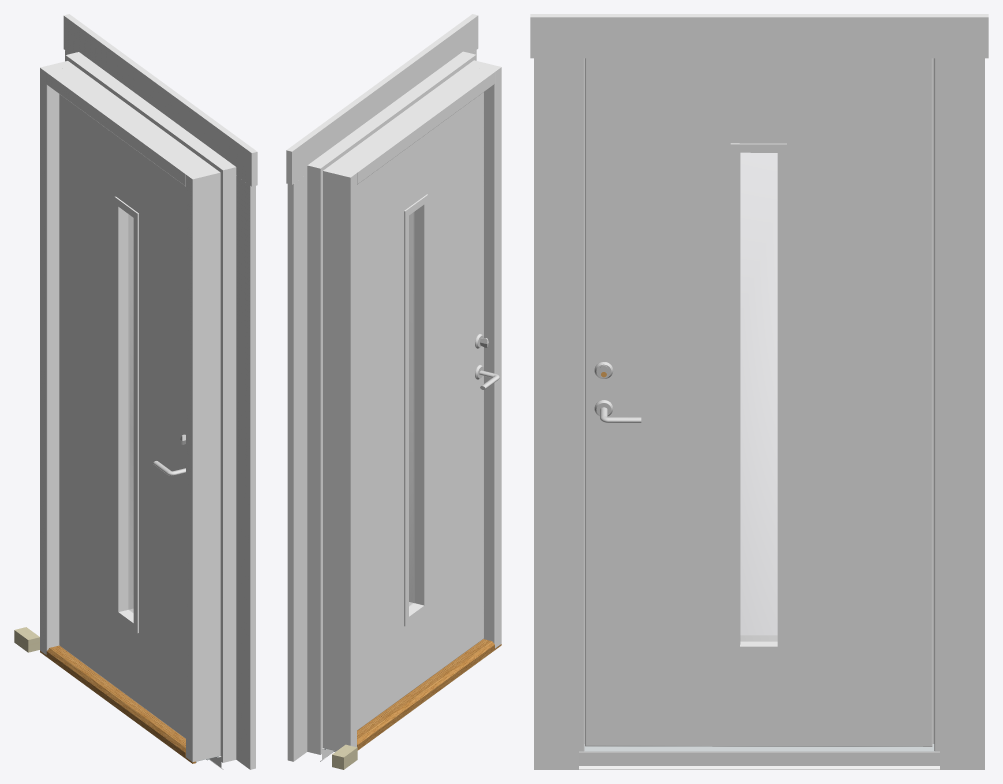
The picture shows the model from 3 angles, left to right: view 1: azimuth 30°, elevation 25°; view 2: azimuth 150°, elevation 25°; view 3: azimuth 270°, elevation 25°; orthographic projection. The views are drawn at different scales.
Parts seen in each view (by area): view 1: Dörrblad_WEB-1 - Part, Karmdelar_WEB-2 - Part, Fönsterfoder_WEB-2 - Part, Karmdelar_WEB-3 - Part, Påsalning yttersida_WEB-3 - Part, Fönsterfoder_WEB-1 - Part, Karmdelar_WEB-4 - Part, Ekdel - Tröskel_WEB-1 - Part, Påsalning yttersida_WEB-1 - Part, Glas_gamla_WEB-1 - Part_clonedChild, Glas_gamla_WEB-1 - Part, Boss-Extrude1 - Part; view 2: Dörrblad_WEB-1 - Part, Karmdelar_WEB-3 - Part, Fönsterfoder_WEB-3 - Part, Karmdelar_WEB-2 - Part, Påsalning yttersida_WEB-2 - Part, Fönsterfoder_WEB-1 - Part, Karmdelar_WEB-4 - Part, Ekdel - Tröskel_WEB-1 - Part, Påsalning yttersida_WEB-1 - Part, Glas_gamla_WEB-1 - Part_clonedChild, Glas_gamla_WEB-1 - Part, Boss-Extrude1 - Part; view 3: Dörrblad_WEB-1 - Part, Fönsterfoder_WEB-2 - Part, Fönsterfoder_WEB-3 - Part, Fönsterfoder_WEB-1 - Part, Glas_gamla_WEB-1 - Part_clonedChild, Glas_gamla_WEB-1 - Part, Tröskelbleck_WEB-1 - Part, Karmdelar_WEB-3 - Part, Karmdelar_WEB-2 - Part, Aluminiumdel - Tröskel_WEB-1 - Part.
Part boxes in pixels (box(x1,y1,x2,y2)): Dörrblad_WEB-1 - Part: box(59, 94, 185, 738); Karmdelar_WEB-2 - Part: box(186, 169, 220, 762); Fönsterfoder_WEB-2 - Part: box(236, 175, 255, 769); Karmdelar_WEB-3 - Part: box(40, 61, 71, 654); Påsalning yttersida_WEB-3 - Part: box(218, 163, 236, 762); Fönsterfoder_WEB-1 - Part: box(63, 14, 257, 186); Karmdelar_WEB-4 - Part: box(46, 64, 215, 186); Ekdel - Tröskel_WEB-1 - Part: box(40, 645, 195, 763); Påsalning yttersida_WEB-1 - Part: box(70, 55, 231, 170); Glas_gamla_WEB-1 - Part_clonedChild: box(129, 215, 132, 612); Glas_gamla_WEB-1 - Part: box(130, 216, 132, 610); Boss-Extrude1 - Part: box(14, 627, 39, 652); Dörrblad_WEB-1 - Part: box(357, 92, 483, 730); Karmdelar_WEB-3 - Part: box(323, 167, 356, 750); Fönsterfoder_WEB-3 - Part: box(287, 174, 307, 761); Karmdelar_WEB-2 - Part: box(470, 60, 501, 648); Påsalning yttersida_WEB-2 - Part: box(307, 162, 324, 754); Fönsterfoder_WEB-1 - Part: box(286, 14, 478, 184); Karmdelar_WEB-4 - Part: box(327, 63, 494, 184); Ekdel - Tröskel_WEB-1 - Part: box(357, 639, 501, 750); Påsalning yttersida_WEB-1 - Part: box(312, 55, 471, 168); Glas_gamla_WEB-1 - Part_clonedChild: box(409, 213, 413, 606); Glas_gamla_WEB-1 - Part: box(409, 214, 412, 604); Boss-Extrude1 - Part: box(332, 744, 357, 769); Dörrblad_WEB-1 - Part: box(585, 58, 932, 746); Fönsterfoder_WEB-2 - Part: box(534, 58, 578, 769); Fönsterfoder_WEB-3 - Part: box(940, 58, 984, 769); Fönsterfoder_WEB-1 - Part: box(530, 14, 988, 58); Glas_gamla_WEB-1 - Part_clonedChild: box(741, 153, 776, 641); Glas_gamla_WEB-1 - Part: box(741, 153, 776, 640); Tröskelbleck_WEB-1 - Part: box(579, 751, 939, 769); Karmdelar_WEB-3 - Part: box(932, 58, 939, 751); Karmdelar_WEB-2 - Part: box(579, 58, 584, 751); Aluminiumdel - Tröskel_WEB-1 - Part: box(579, 744, 939, 751).
Size of the model in its own units: 0.2283 by 2.24 by 1.22.
21 materials, 12 textured.
